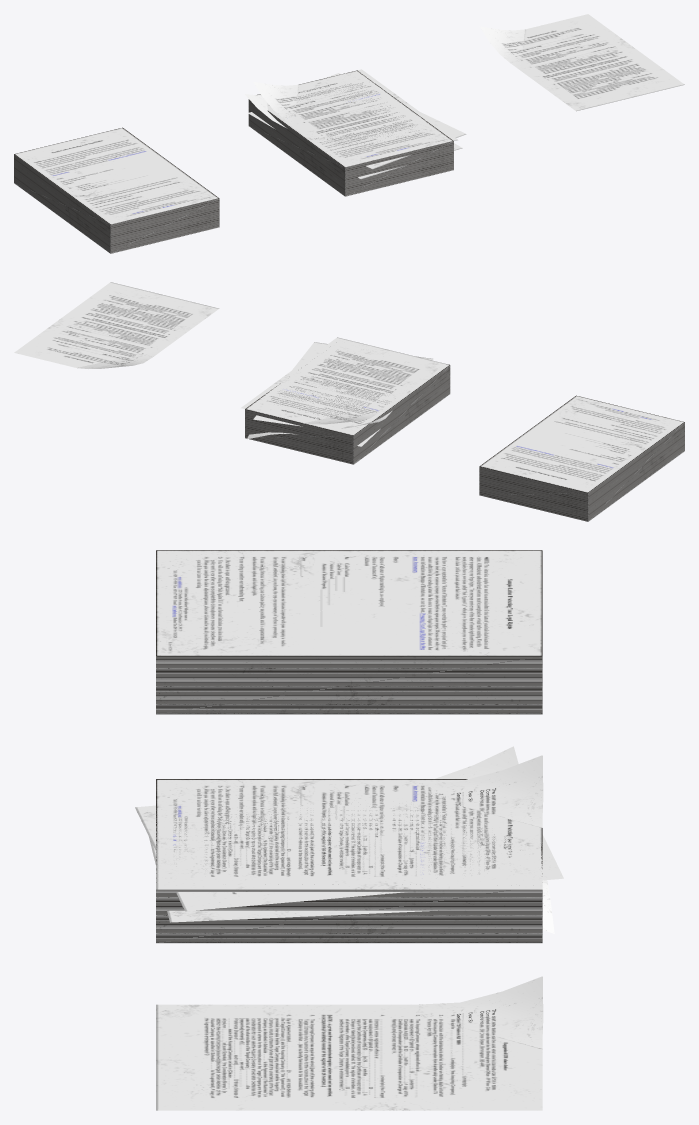
The model's file is papers.glb.
3 views of the same model, one above another, from view 1: azimuth 30°, elevation 25°; view 2: azimuth 150°, elevation 25°; view 3: azimuth 270°, elevation 25° (orthographic). The views are drawn at different scales.
Visible parts, largest first — view 1: 01_1_all_0, 01_all_0, 02_3_all_0, 02_all_0, 02_1_all_0; view 2: 01_1_all_0, 01_all_0, 02_3_all_0, 02_all_0, 02_1_all_0; view 3: 01_1_all_0, 02_3_all_0, 01_all_0, 02_all_0, 02_1_all_0, 02_2_all_0.
Boxes of the visible parts, <box> form: 01_1_all_0: <box>14,127,219,253</box>; 01_all_0: <box>248,70,453,196</box>; 02_3_all_0: <box>479,14,684,111</box>; 02_all_0: <box>253,69,457,156</box>; 02_1_all_0: <box>245,73,466,169</box>; 01_1_all_0: <box>479,395,684,521</box>; 01_all_0: <box>245,342,450,464</box>; 02_3_all_0: <box>14,282,219,368</box>; 02_all_0: <box>241,337,445,424</box>; 02_1_all_0: <box>253,342,432,428</box>; 01_1_all_0: <box>156,550,542,714</box>; 02_3_all_0: <box>156,976,543,1110</box>; 01_all_0: <box>156,779,542,943</box>; 02_all_0: <box>156,755,543,889</box>; 02_1_all_0: <box>135,746,563,911</box>; 02_2_all_0: <box>149,837,554,933</box>.
Size of the model in its own units: 3.43 by 0.2464 by 1.11.
1 material, 1 textured.
